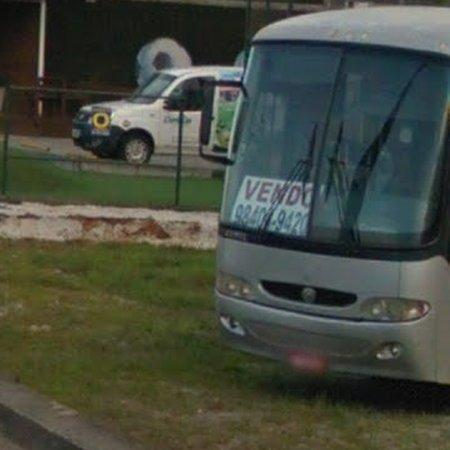buses: (202, 8, 450, 384)
